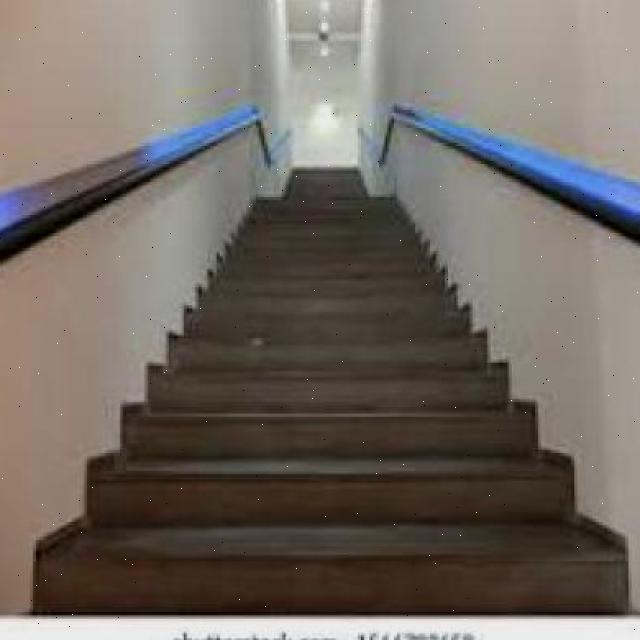stair: (64, 323, 599, 586)
